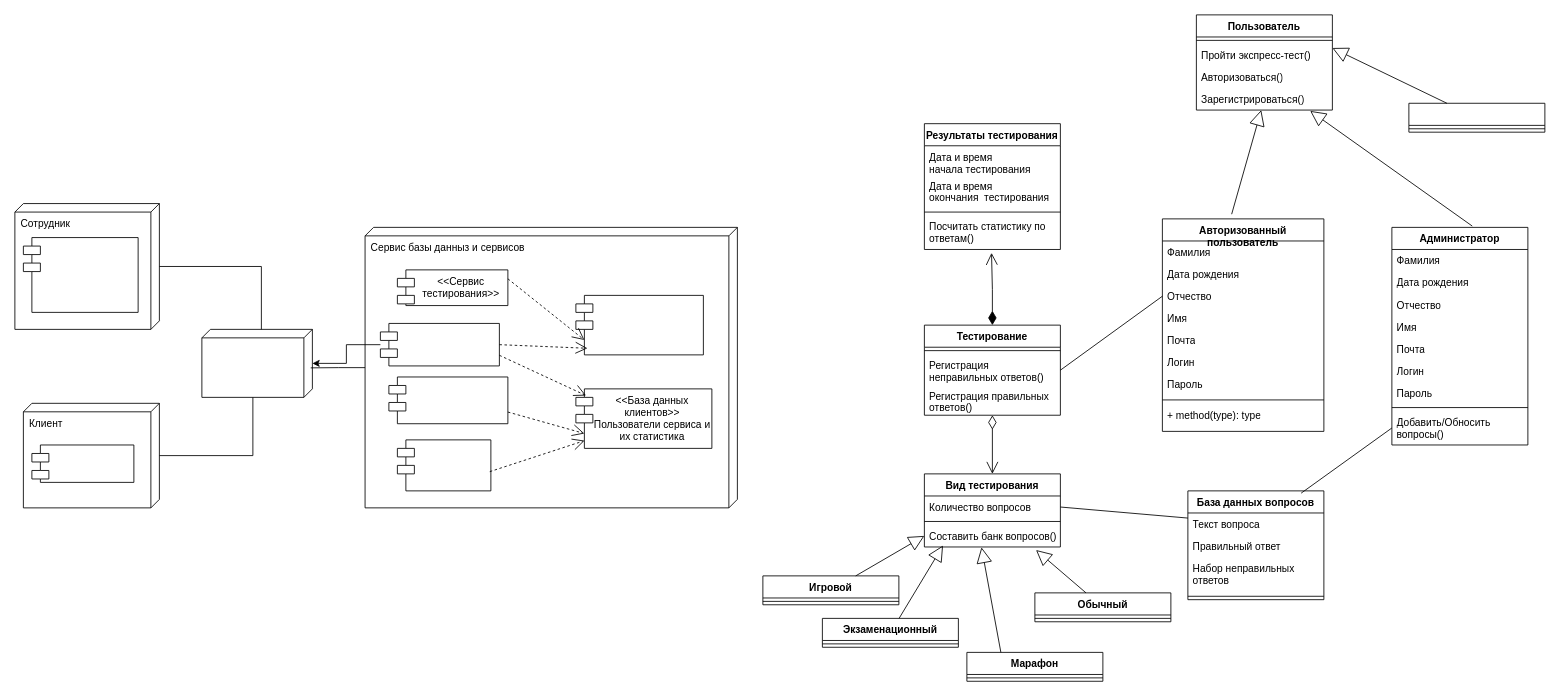
Some shapes in this 1560 by 696 pixel diagram are drawn without their labels. Here are the shapes that lost their labels. From the top down, the centre of each, then its label:
(1476,117): Гость
(80,274): <<Веб-клиент>> Авторизация с особыми привелегиями
(439,344): <<Сервис администратора>>
(639,325): <<База данных вопросов>> Банк теоритических вопросов
(256,363): Интернет соединение / защищенное соединение
(448,400): <<Сервис аналитики>>
(82,463): <<Веб-клиент>>
(444,465): <<Сервис авторизации и регистрации>>
